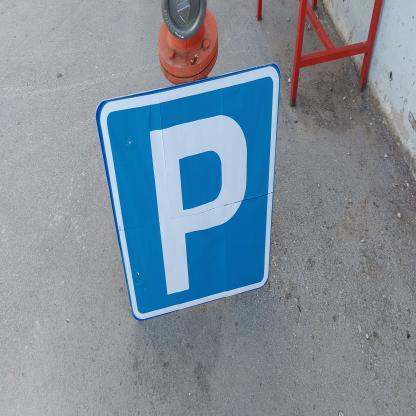parking: (97, 66, 280, 320)
